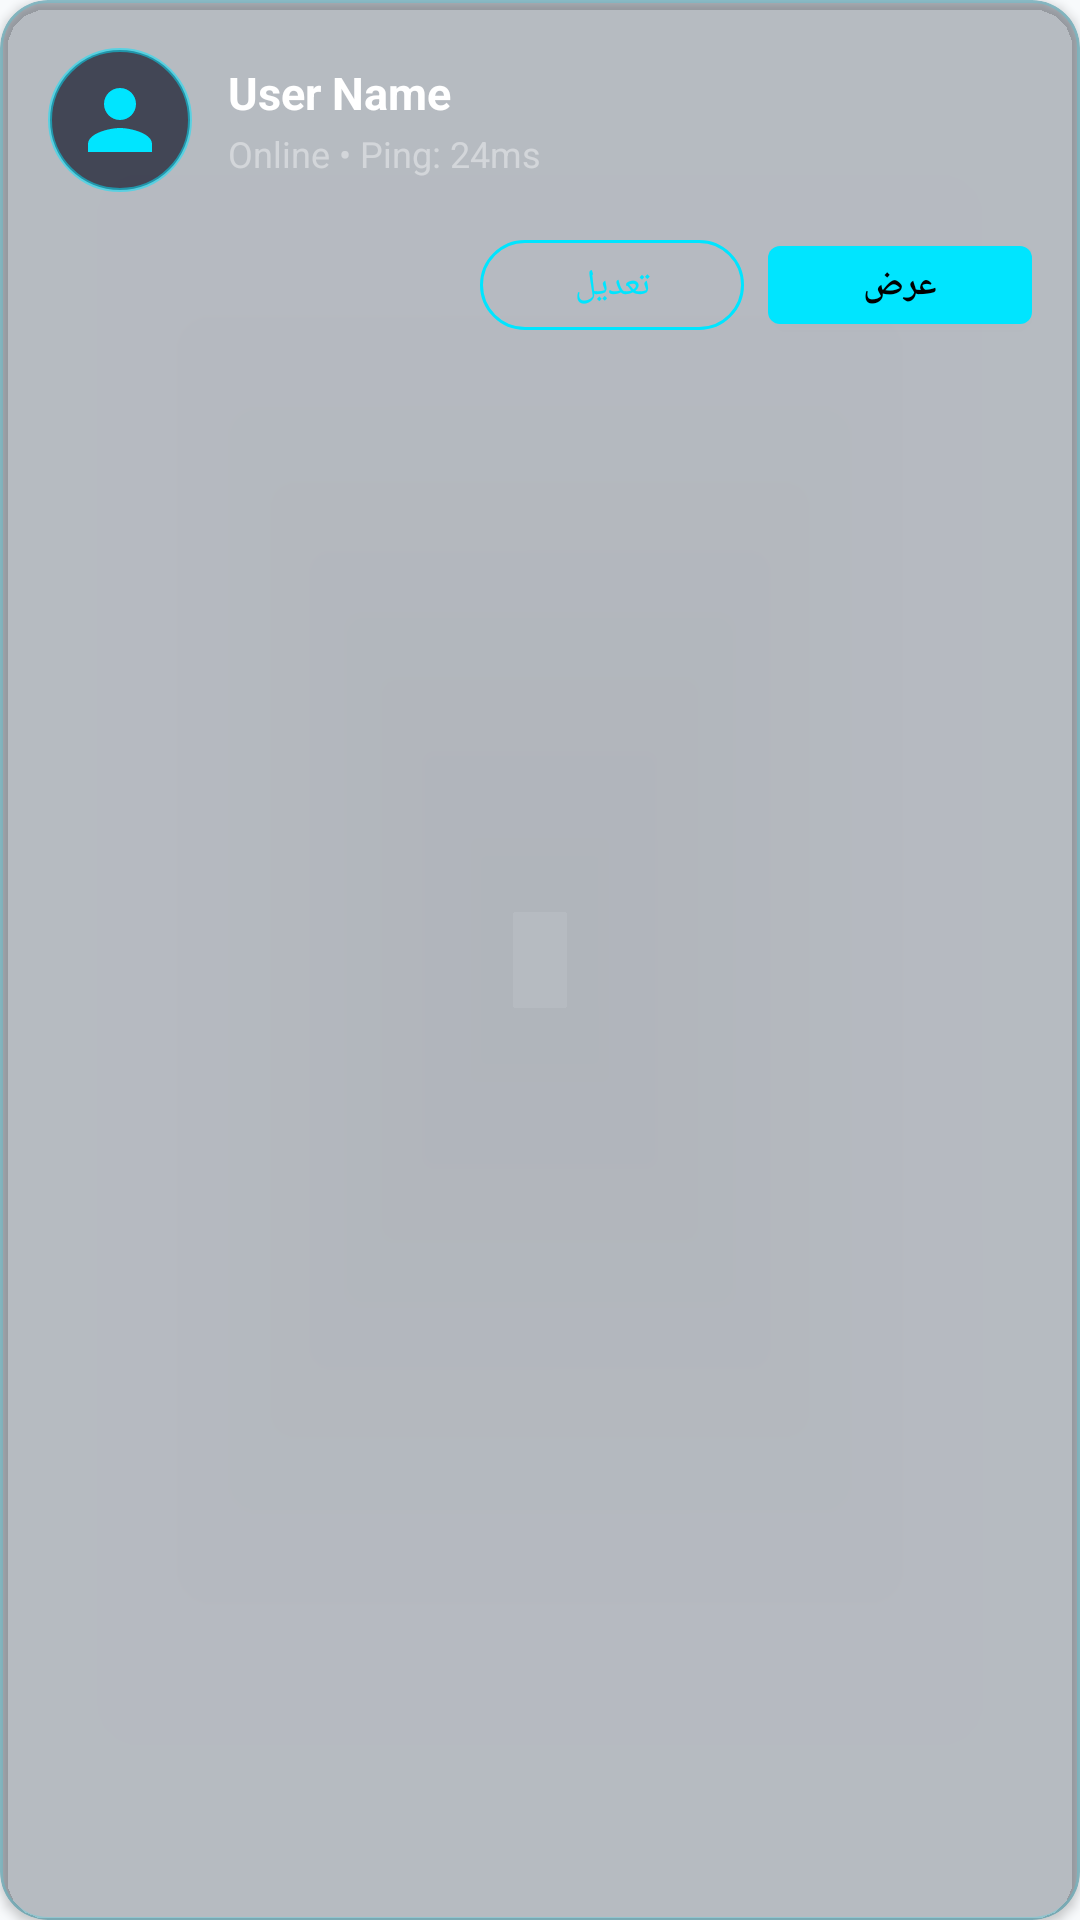

Icon bounding boxes for this 1080w x 1920h phone screenshot, format (x1, y1, x2, y2):
user neon: (48, 48, 192, 192)
